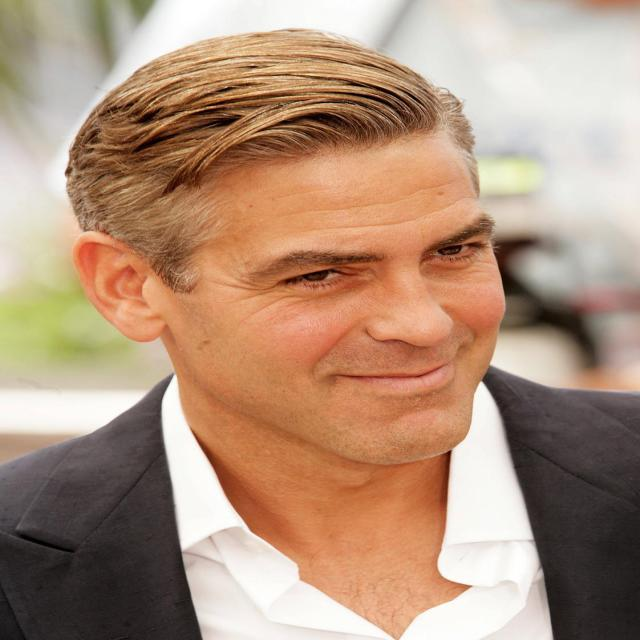no-earmuff: (42, 216, 200, 368)
